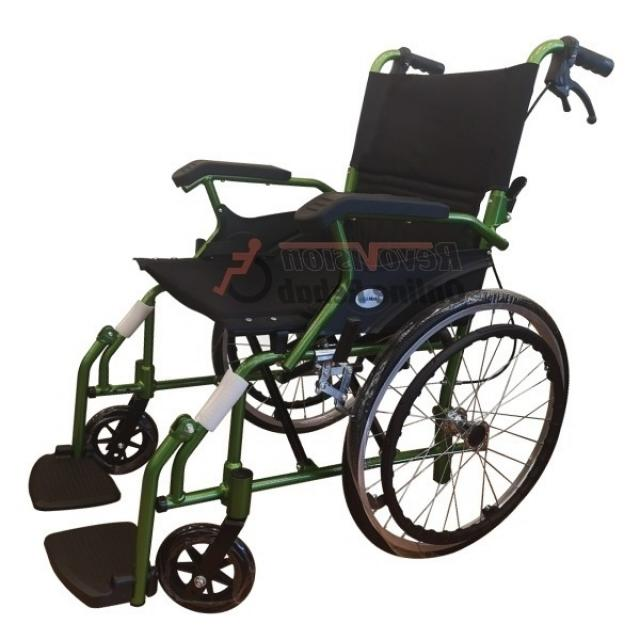wheelchair: (22, 28, 620, 620)
